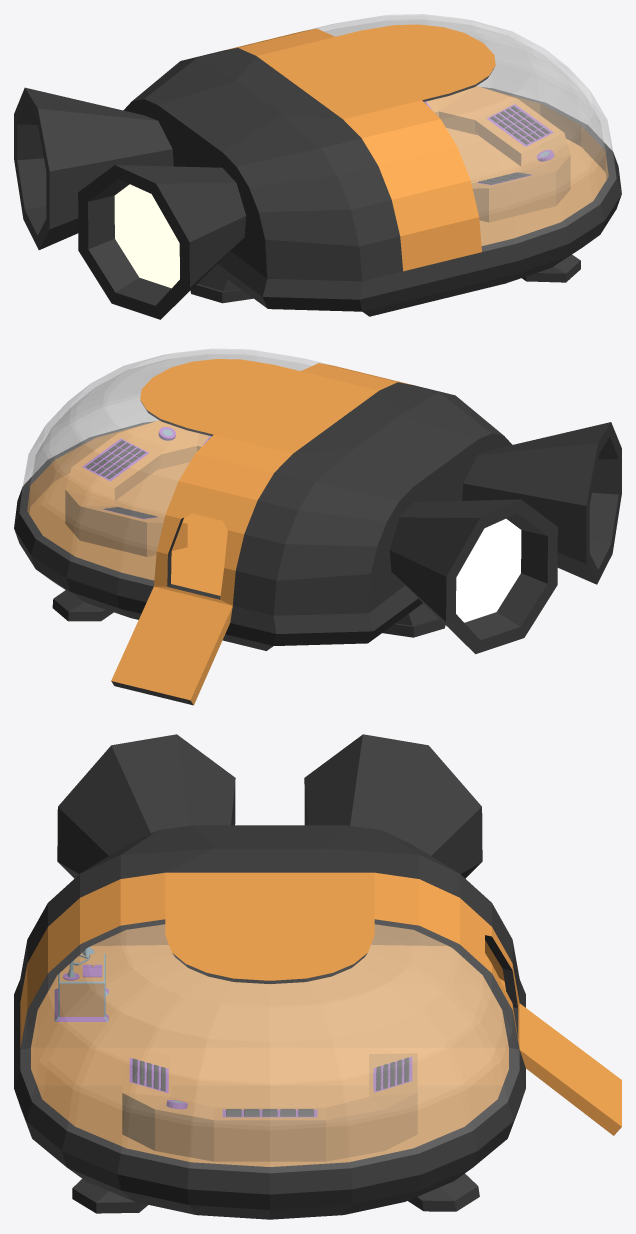
Rendered from vaisseau_final.glb.
3 renders of one model, top to bottom at view 1: azimuth 30°, elevation 25°; view 2: azimuth 150°, elevation 25°; view 3: azimuth 270°, elevation 25°, orthographic. The views are drawn at different scales.
Parts seen in each view (by area): view 1: vaisseau, Cylinder.001; view 2: vaisseau, Cylinder.001; view 3: vaisseau, Cylinder.001, ScienceTable.
Boxes of the visible parts, left/top/right/bottom form: vaisseau: left=14, top=14, right=621, bottom=319; Cylinder.001: left=424, top=86, right=570, bottom=222; vaisseau: left=14, top=348, right=621, bottom=705; Cylinder.001: left=65, top=420, right=211, bottom=556; vaisseau: left=14, top=734, right=621, bottom=1219; Cylinder.001: left=122, top=1053, right=417, bottom=1161; ScienceTable: left=54, top=953, right=108, bottom=1021.
Bounding box in the file's own units: 15.89 × 5.32 × 13.07.
